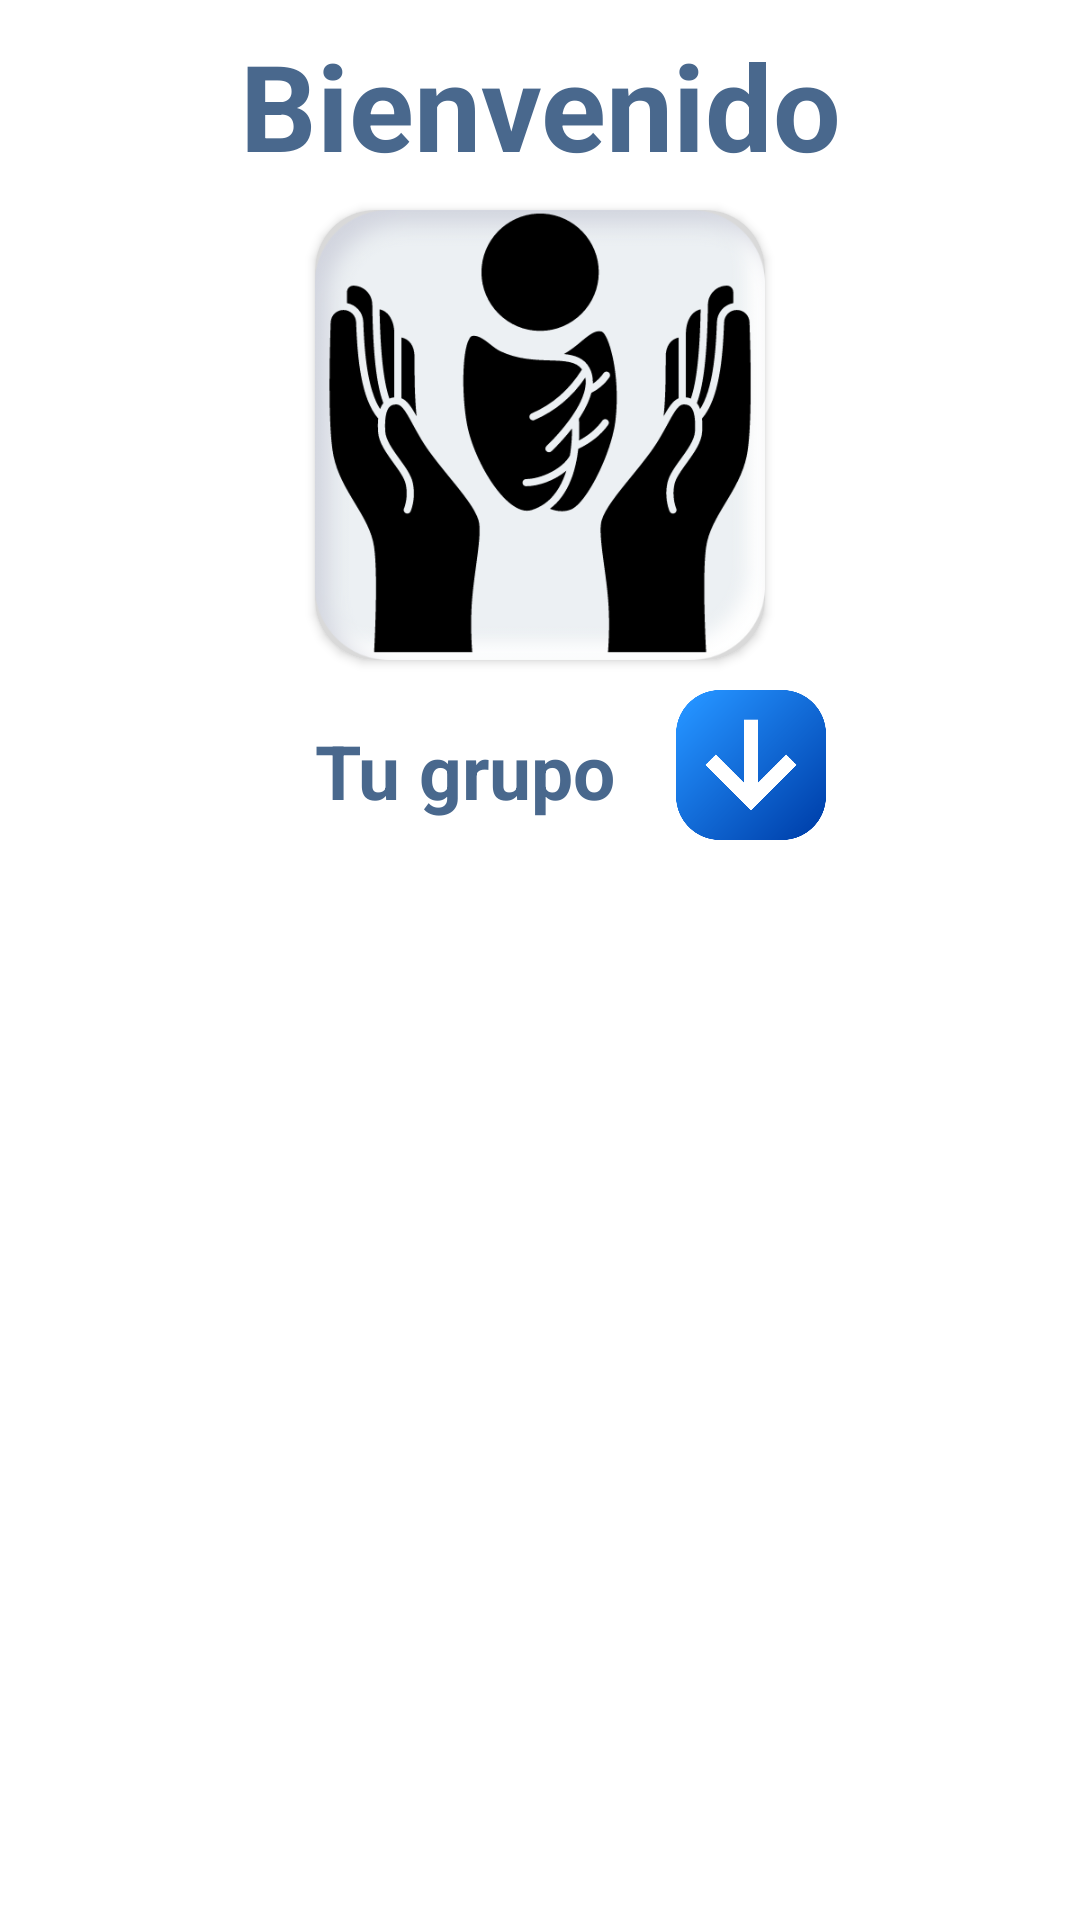

Locate icon controls on the screen. Image size 1080 × 1920, boxes as {"left": x1, "top": y1, "right": x2, "bottom": y2}.
Boton descargar: {"left": 676, "top": 690, "right": 826, "bottom": 840}
